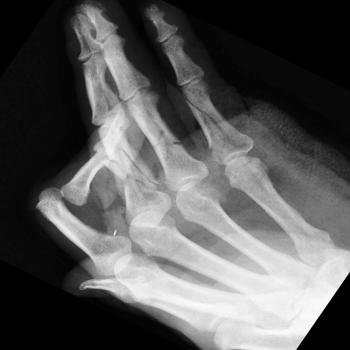Fracture: (189, 103, 250, 150), (110, 143, 162, 191), (34, 178, 92, 214), (147, 125, 187, 151)
